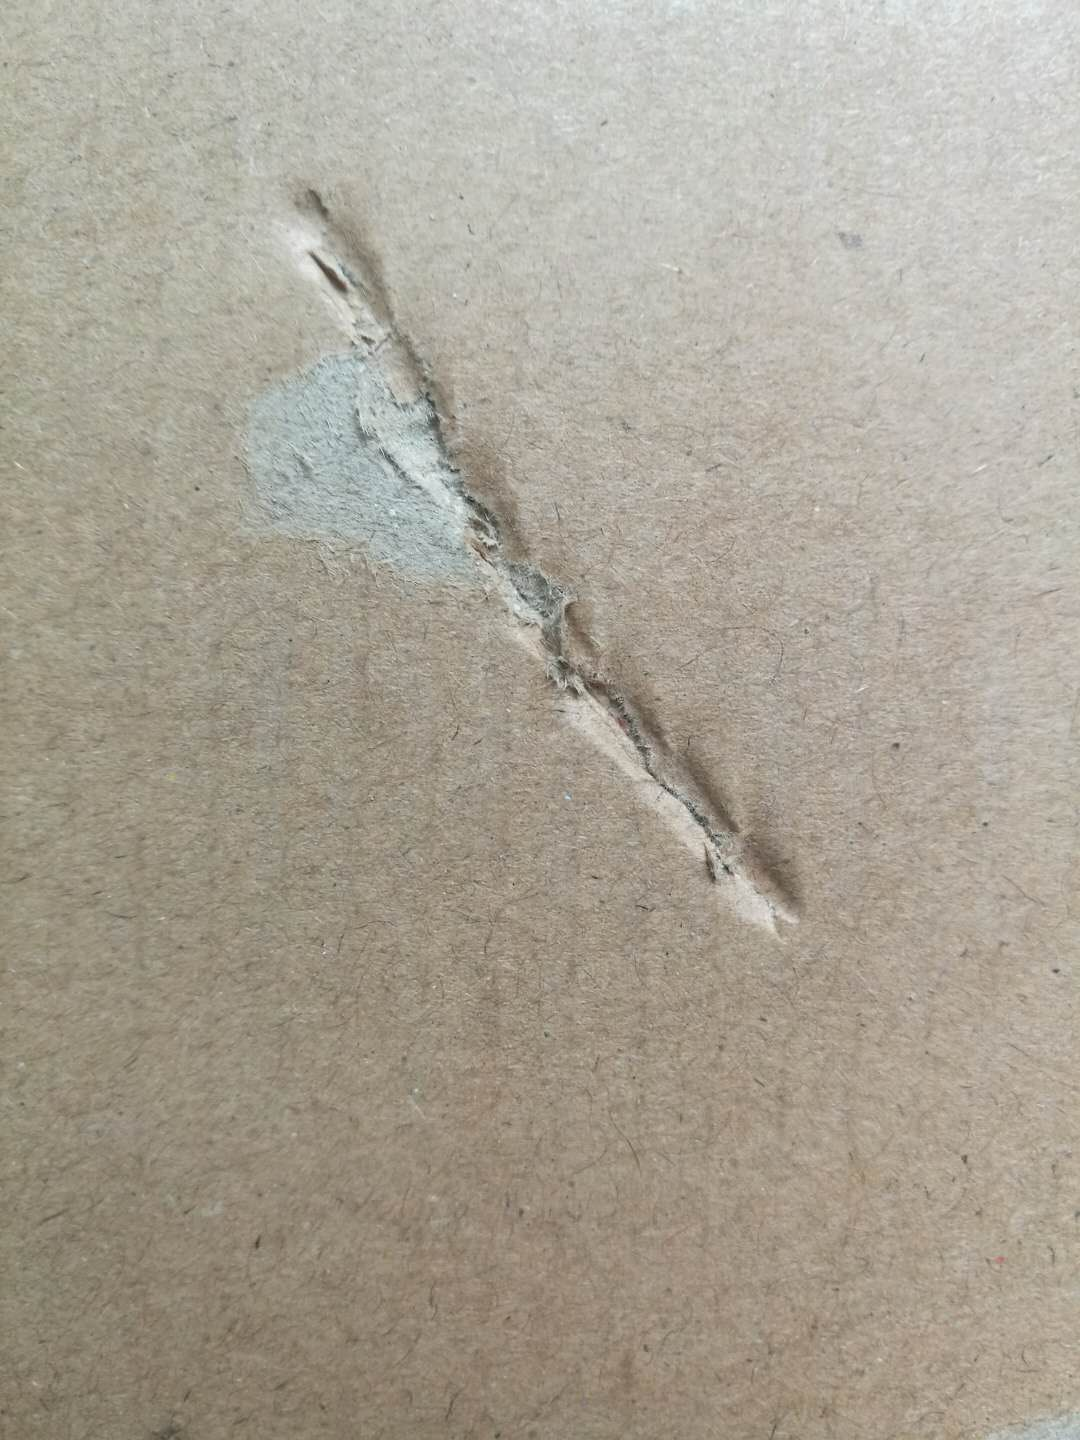defect: (174, 153, 872, 969)
